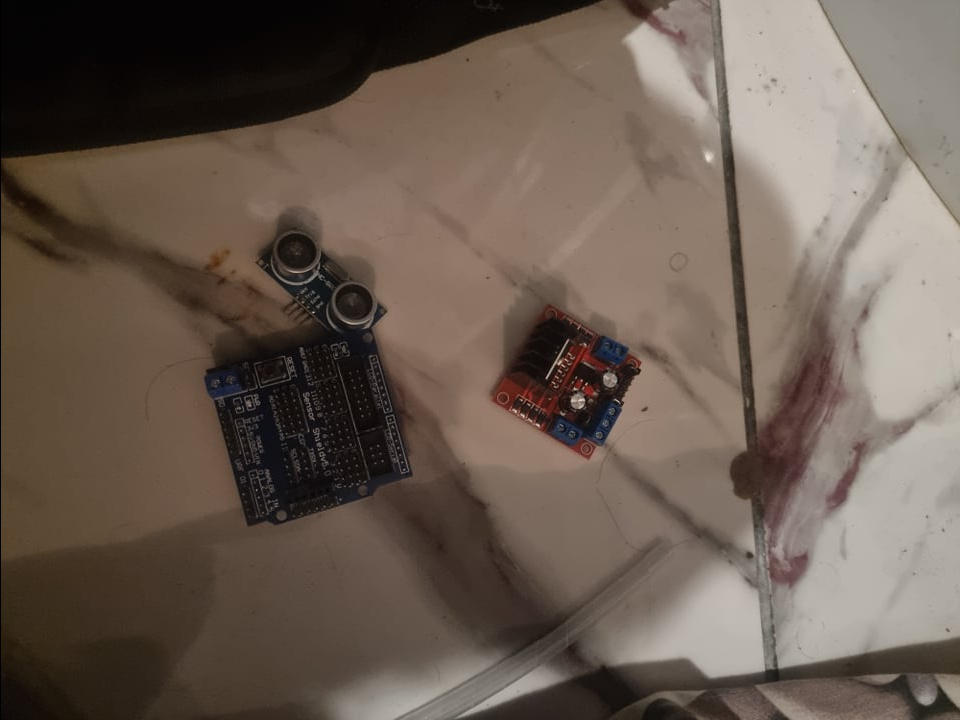5V EXPANSION: (202, 333, 413, 530)
MOTOR: (484, 300, 640, 458)
SENSOR: (257, 227, 391, 327)
